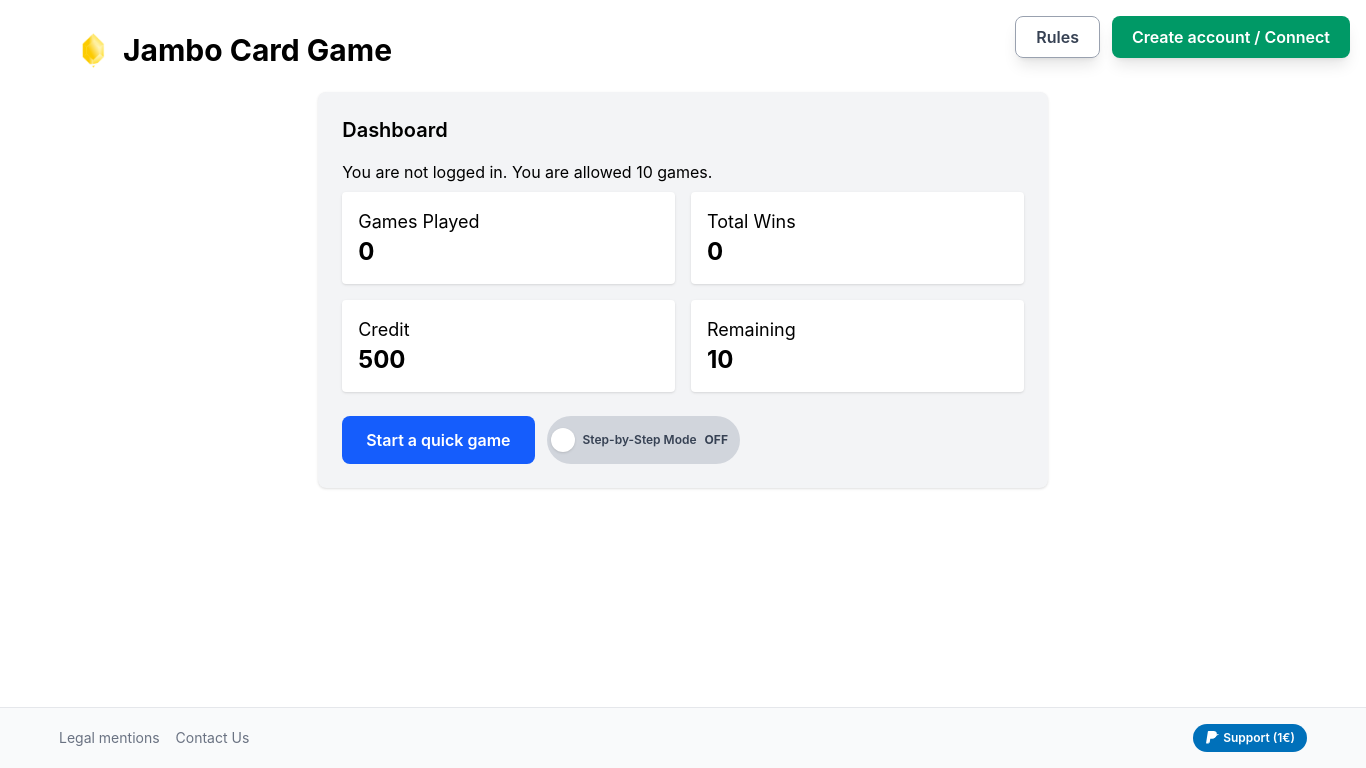
it: App › opens Rules modal when clicking Rules button
What coordinates should you click on to do the following:
click the button "Rules"
I would click on:
 (1058, 37)
Its box is [1015,16,1100,58].
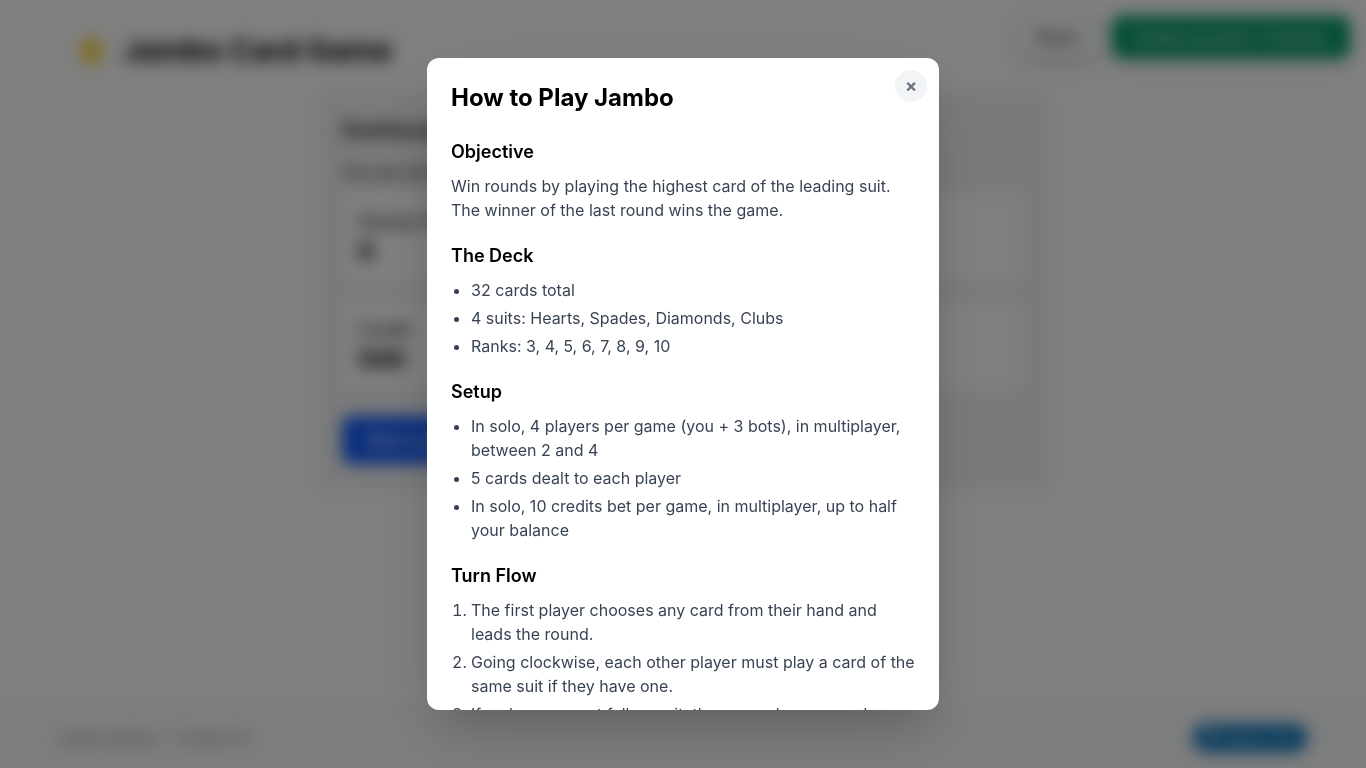
Now the heading "How to Play Jambo" is shown, box [451,83,674,112]
